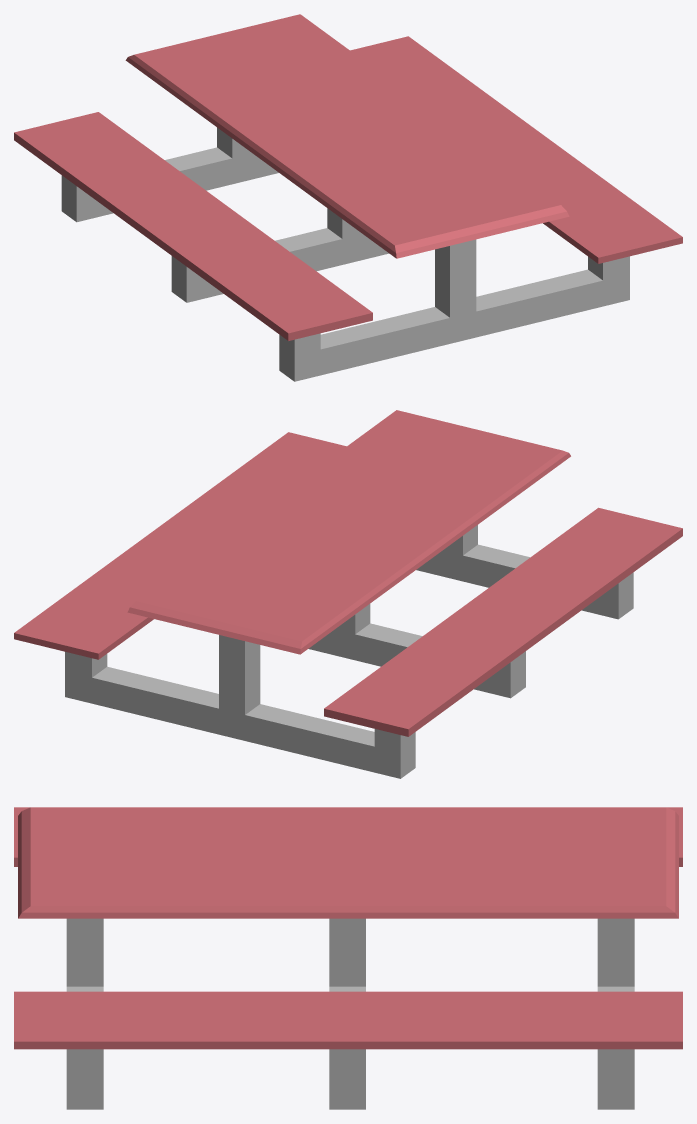
The model's file is cafeteria_bench.glb.
3 views of the same model, one above another, from view 1: azimuth 30°, elevation 25°; view 2: azimuth 150°, elevation 25°; view 3: azimuth 270°, elevation 25° (orthographic). The views are drawn at different scales.
Visible parts, largest first — view 1: Cube (×2); view 2: Cube (×2); view 3: Cube (×2).
Part boxes in pixels (x1,y1,x2,y2): Cube (×2): (14,14,682,381); Cube (×2): (14,410,682,778); Cube (×2): (14,807,682,1109).
Bounding box in the file's own units: 4.51 × 1.38 × 5.43.
